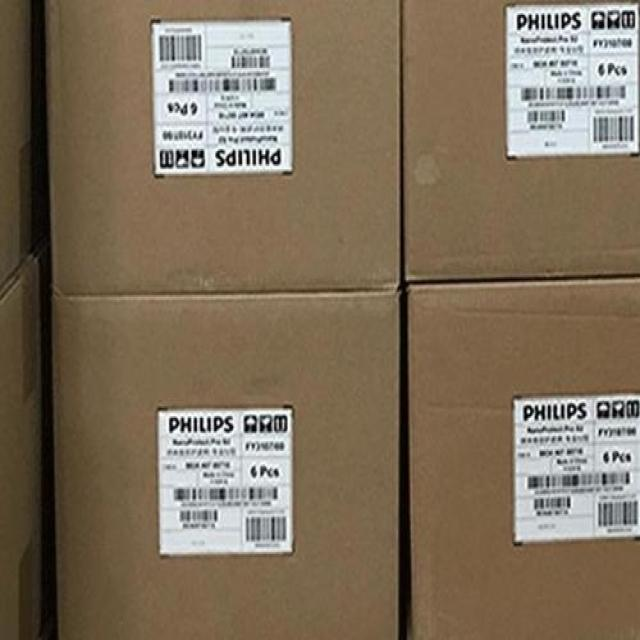box: (51, 289, 399, 638), (44, 0, 399, 293), (406, 277, 639, 638), (402, 0, 639, 281)
